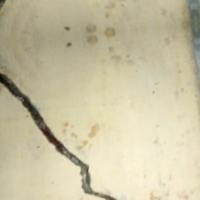crack: (0, 67, 122, 199)
